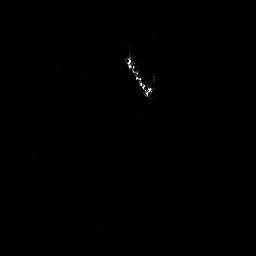ship: (121, 52, 157, 99)
